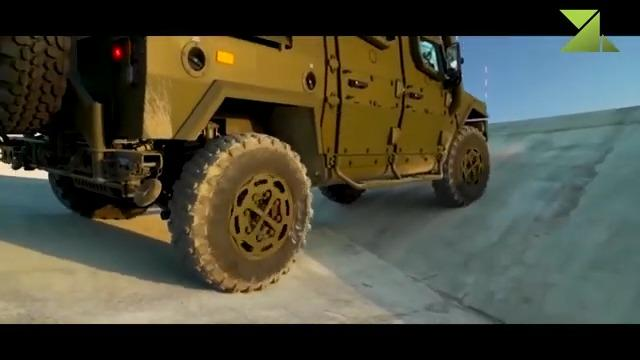MIL_HMMWV: (2, 34, 493, 295)
